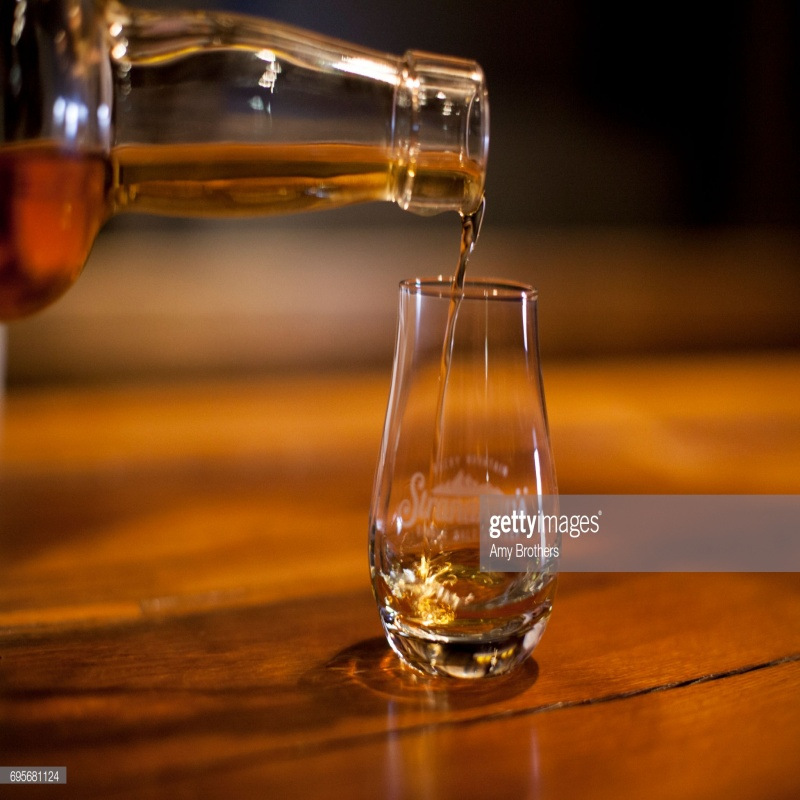whiskey: (361, 274, 565, 682)
